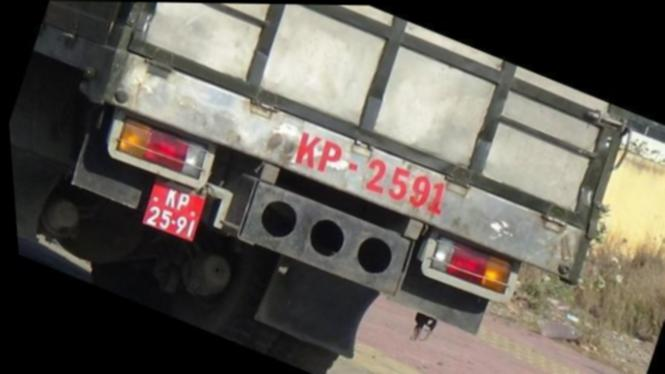License_Plate: (137, 180, 208, 240)
